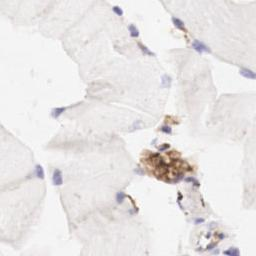nucleus: (239, 64, 256, 81), (49, 168, 64, 186), (50, 106, 72, 116), (159, 72, 172, 88), (198, 39, 211, 53), (206, 244, 220, 256), (222, 247, 240, 256), (181, 176, 198, 184), (113, 4, 123, 16), (36, 161, 43, 178), (117, 193, 126, 205), (189, 218, 207, 223), (161, 126, 172, 134), (133, 167, 142, 176), (145, 49, 154, 57), (192, 46, 201, 54), (127, 23, 137, 30), (173, 19, 181, 27), (130, 31, 139, 36), (220, 231, 226, 238), (159, 148, 165, 152), (207, 232, 211, 236)
positive_cell: (156, 113, 184, 135), (165, 169, 198, 187), (117, 191, 140, 212), (171, 17, 189, 43), (148, 140, 178, 155), (132, 161, 157, 179), (136, 38, 156, 58), (175, 192, 186, 213), (214, 229, 227, 241), (206, 239, 218, 247), (204, 228, 213, 238)
